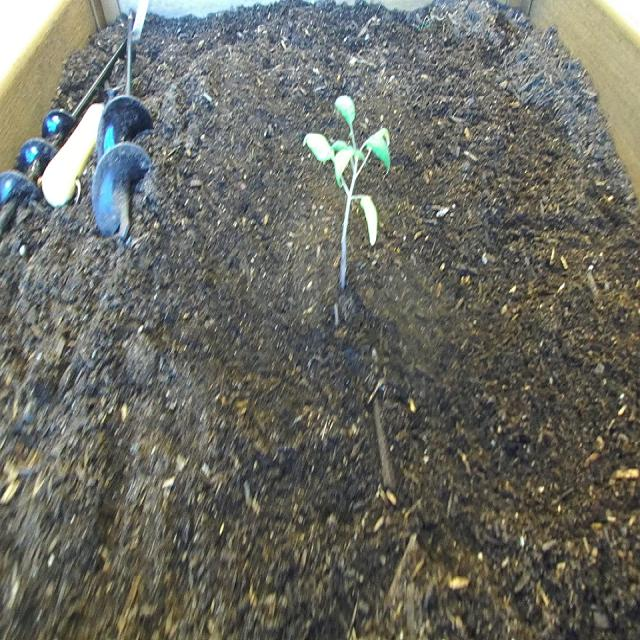Healthy: (300, 90, 396, 302)
